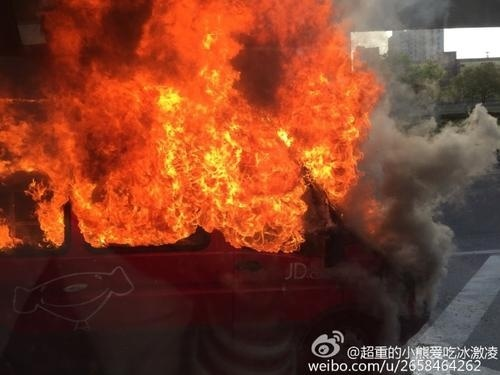fire: (16, 8, 395, 258)
